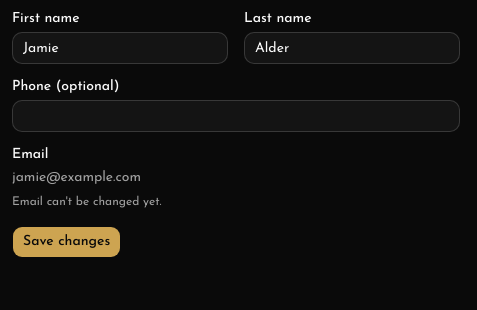
Test case: ProfileForm › surfaces a server error message inline
The image size is (477, 310).
What coordinates should you click on to do the following:
click the button "Save changes"
I would click on:
 (67, 242)
Its box is [12,226,121,258].
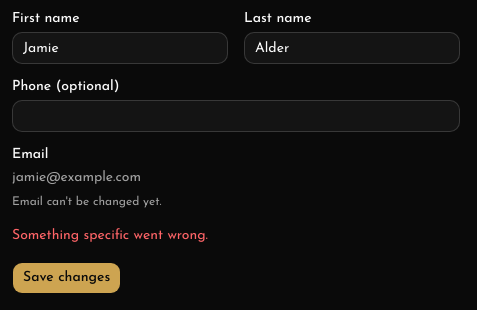
Now the text "Something specific went wrong." is shown, box [12,228,208,243]
